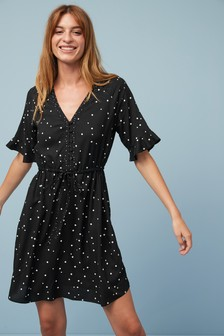C_dress: (11, 87, 142, 295)
